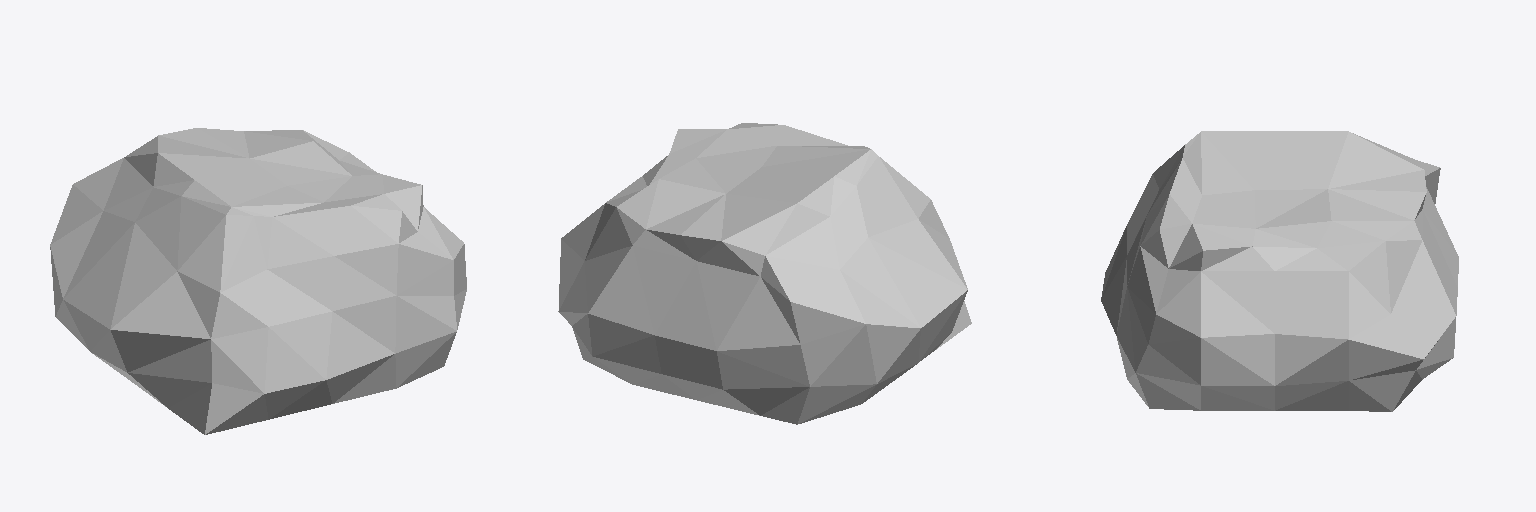
File: rock.obj
3 renders of one model, left to right at view 1: azimuth 30°, elevation 25°; view 2: azimuth 150°, elevation 25°; view 3: azimuth 270°, elevation 25°, orthographic.
Size of the model in its own units: 2.71 by 1.4 by 2.43.